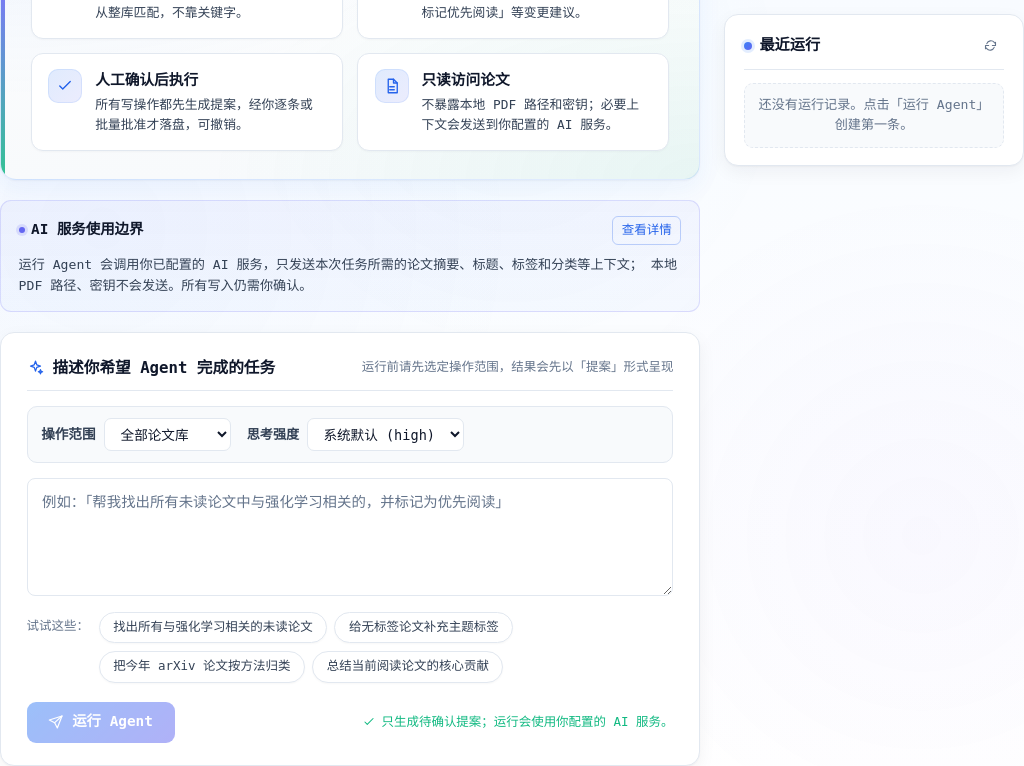
it: reader_paper example prompt does not fabricate a default paper
(page scrolled)
Click the button "总结当前阅读论文的核心贡献".
click(408, 667)  # box [312,651,504,682]
(page scrolled)
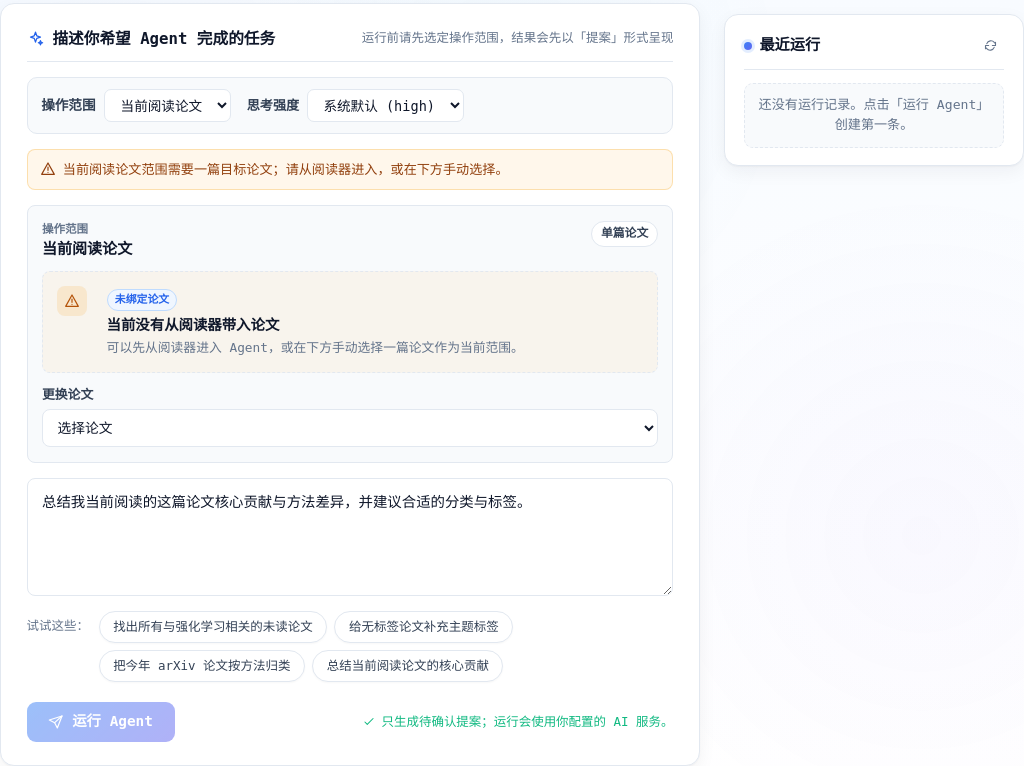
Expected: the button "运行 Agent" is disabled, [27,702,175,742]
Expected: the text "当前没有从阅读器带入论文" is shown, [107,317,279,333]
